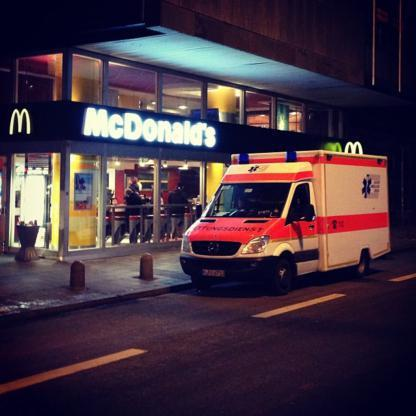Ambulance - v1 Ambulance last generate: (178, 148, 394, 294)
